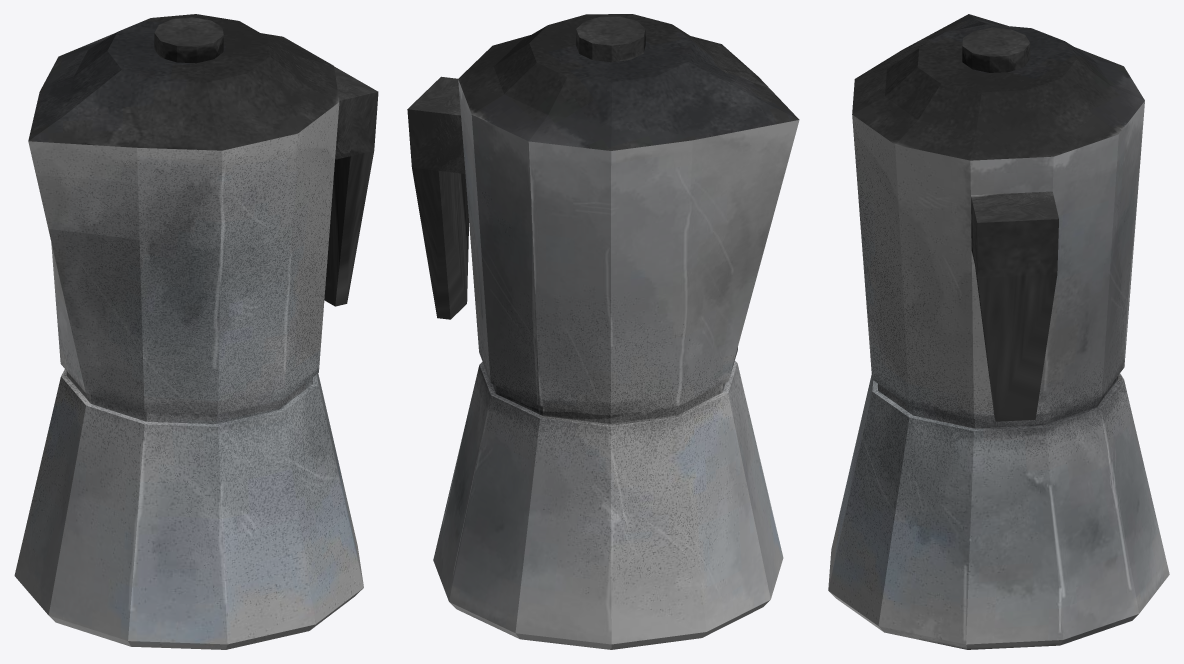
Rendered from 02-cafetiereitalienne-model.glb.
The picture shows the model from 3 angles, left to right: view 1: azimuth 30°, elevation 25°; view 2: azimuth 150°, elevation 25°; view 3: azimuth 270°, elevation 25°; orthographic projection. The views are drawn at different scales.
Parts seen in each view (by area): view 1: 02-cafetiereitalienne-model; view 2: 02-cafetiereitalienne-model; view 3: 02-cafetiereitalienne-model.
Boxes of the visible parts, x1,y1,x2,y2 form: 02-cafetiereitalienne-model: (14, 14, 378, 649); 02-cafetiereitalienne-model: (407, 14, 799, 649); 02-cafetiereitalienne-model: (828, 14, 1169, 649).
Size of the model in its own units: 2.81 by 4.16 by 2.4.
Materials: 1 (1 with a texture image).
